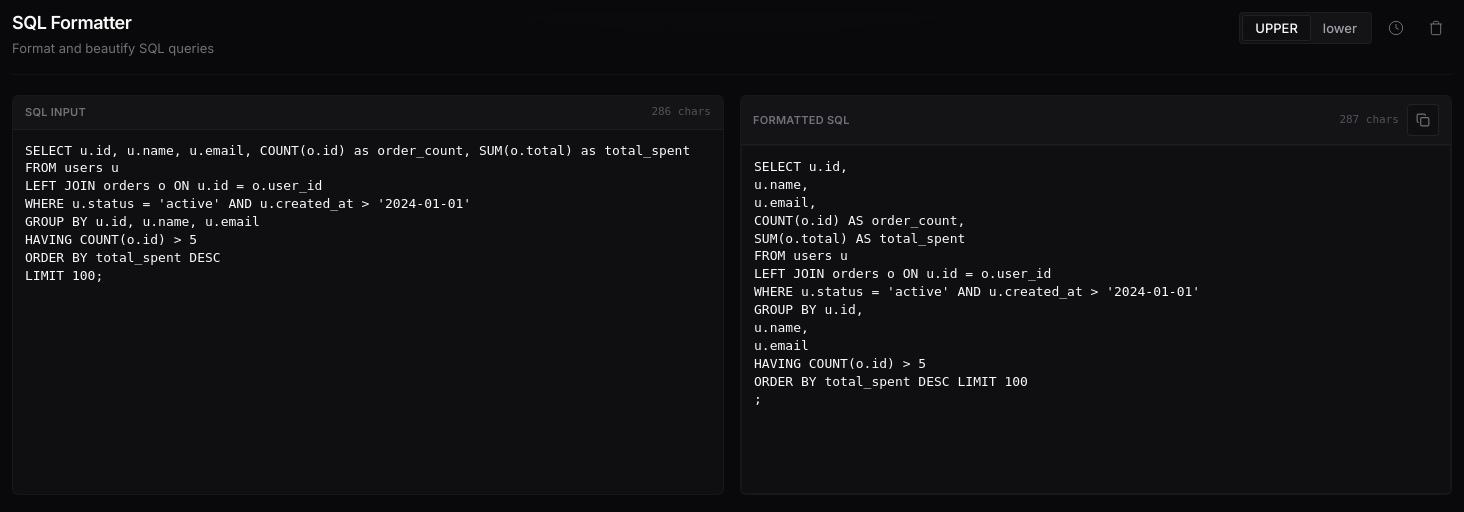
Test: SqlTool › should clear content when clear button clicked
Replace the text in the text box named "SQL Input" with "SELECT * FROM users": (368,312) [13, 130, 723, 494]
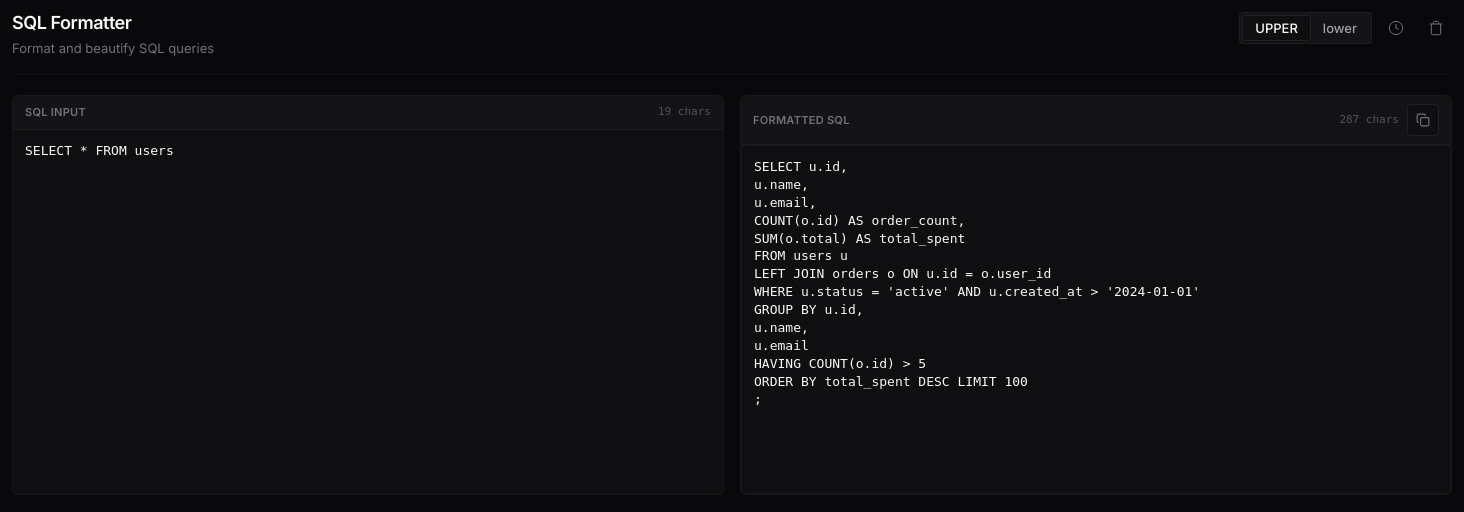
Click the button named "Clear": (1436,28) [1420, 12, 1452, 44]
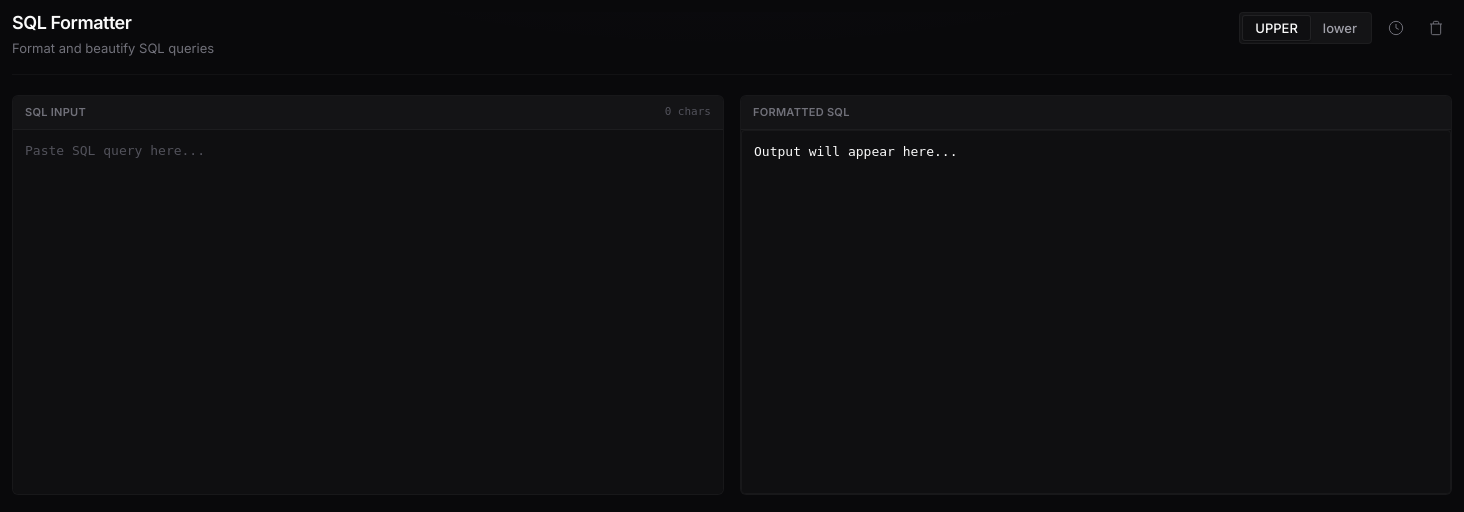
Expected: the text box named "SQL Input" is empty, [13, 130, 723, 494]
